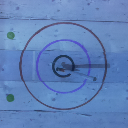Axe Tip: (60, 68, 74, 71)
